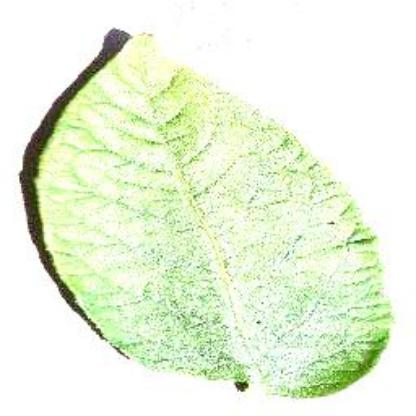Healthy-plant: (26, 23, 393, 403)
